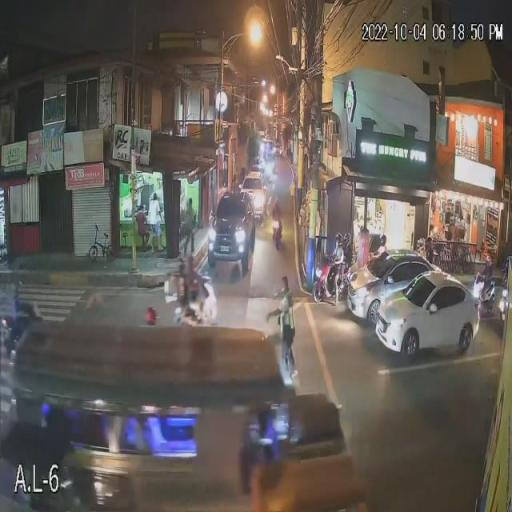helmet: (484, 255, 493, 270), (333, 233, 344, 245), (342, 231, 351, 245), (416, 238, 426, 250), (426, 236, 434, 250)
motorcycle: (311, 258, 348, 306), (178, 287, 218, 327), (471, 278, 500, 322), (271, 222, 283, 250)
rider: (179, 256, 207, 318), (476, 254, 498, 296), (329, 244, 343, 306), (340, 244, 354, 285), (270, 202, 284, 234), (415, 247, 435, 263)
